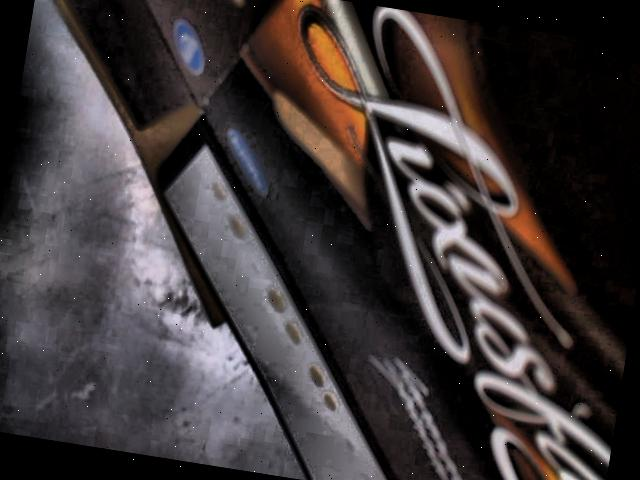Paper: (47, 0, 640, 480)
